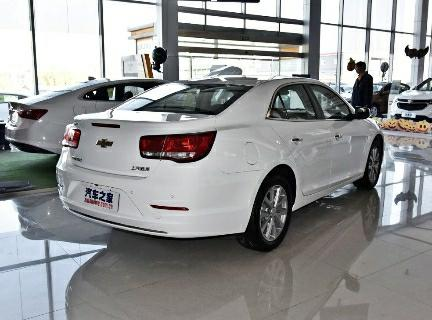car: (40, 67, 393, 256)
